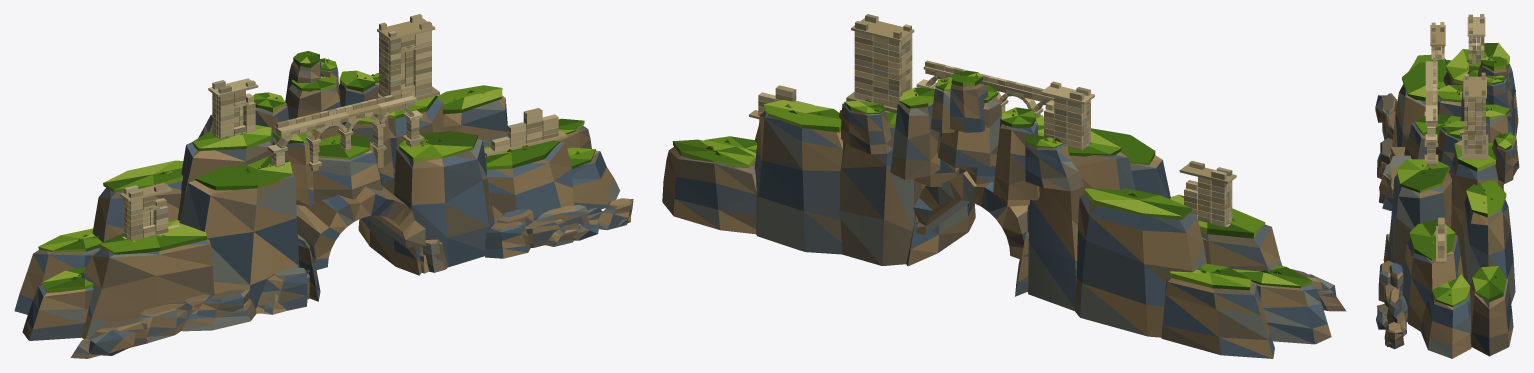
Rendered from rock_mountain_ruins.obj.
3 views of the same model, side by side, from view 1: azimuth 30°, elevation 25°; view 2: azimuth 150°, elevation 25°; view 3: azimuth 270°, elevation 25° (orthographic). The views are drawn at different scales.
Parts seen in each view (by area): view 1: Mountain_Cave_Grass_Ruins; view 2: Mountain_Cave_Grass_Ruins; view 3: Mountain_Cave_Grass_Ruins.
Part boxes in pixels (x1=…): Mountain_Cave_Grass_Ruins: x1=14, y1=14, x2=633, y2=358; Mountain_Cave_Grass_Ruins: x1=662, y1=14, x2=1346, y2=358; Mountain_Cave_Grass_Ruins: x1=1375, y1=14, x2=1519, y2=358.
Size of the model in its own units: 47.98 by 16.21 by 11.06.
